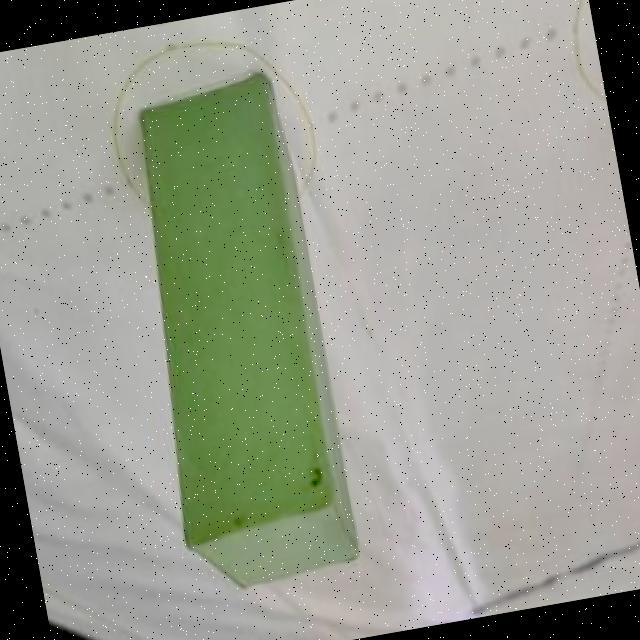greenbox: (101, 68, 366, 604)
